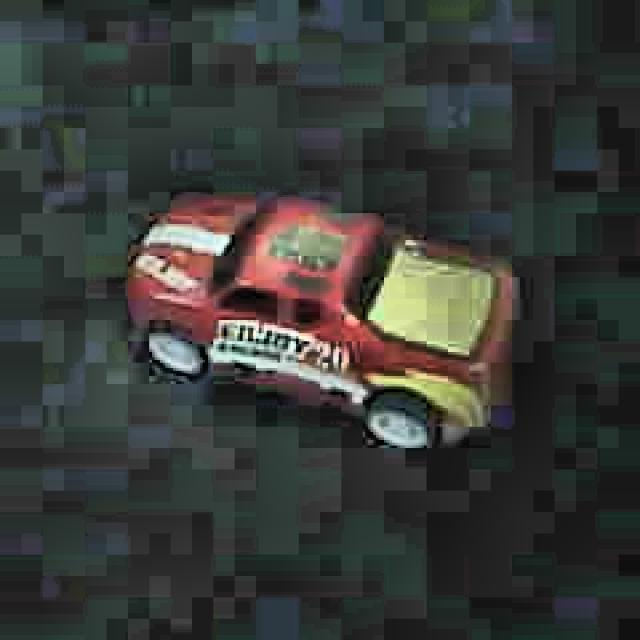car: (122, 186, 520, 456)
